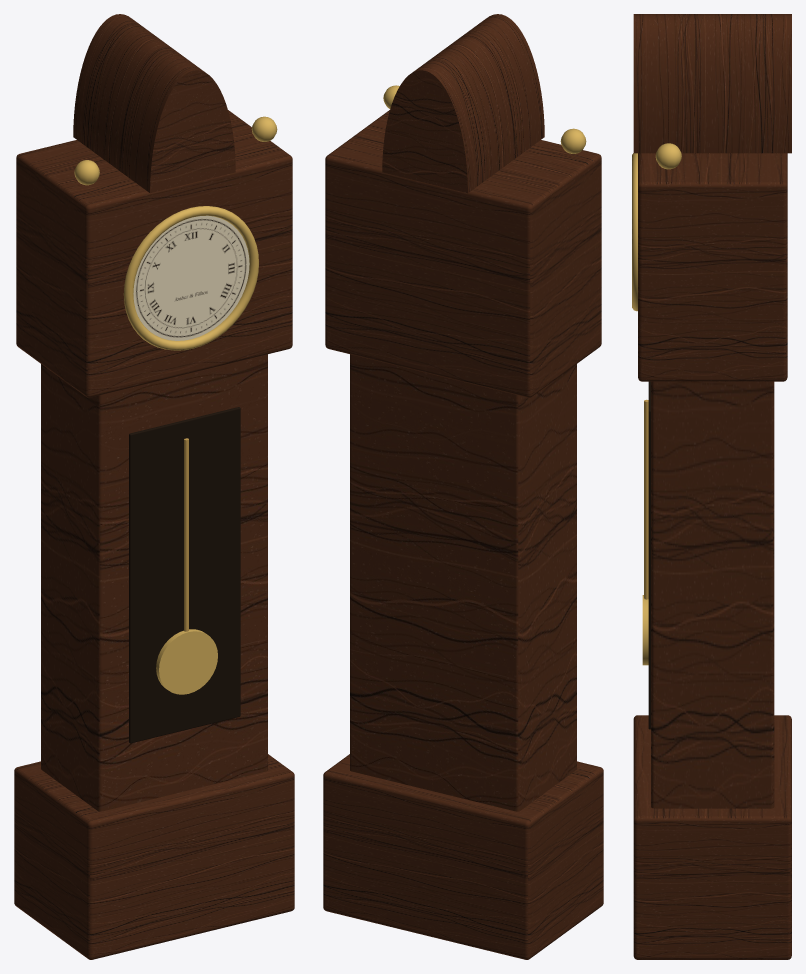
File: relogio-carrilhao-pe.glb
3 views of the same model, side by side, from view 1: azimuth 30°, elevation 25°; view 2: azimuth 150°, elevation 25°; view 3: azimuth 270°, elevation 25° (orthographic). The views are drawn at different scales.
Parts seen in each view (by area): view 1: grandfatherClock; view 2: grandfatherClock; view 3: grandfatherClock.
Boxes of the visible parts, x1,y1,x2,y2 form: grandfatherClock: (14, 14, 294, 959); grandfatherClock: (323, 14, 603, 959); grandfatherClock: (632, 14, 791, 959).
Bounding box in the file's own units: 0.56 × 2.24 × 0.3634.
Materials: 8 (2 with a texture image).
